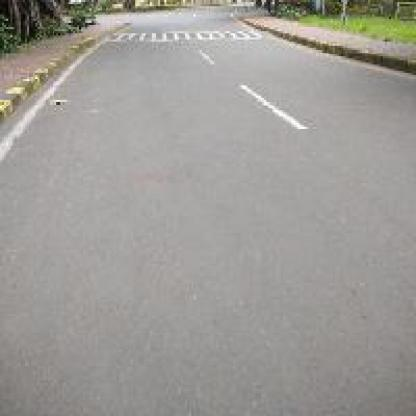Speed Bump: (106, 21, 266, 44)
